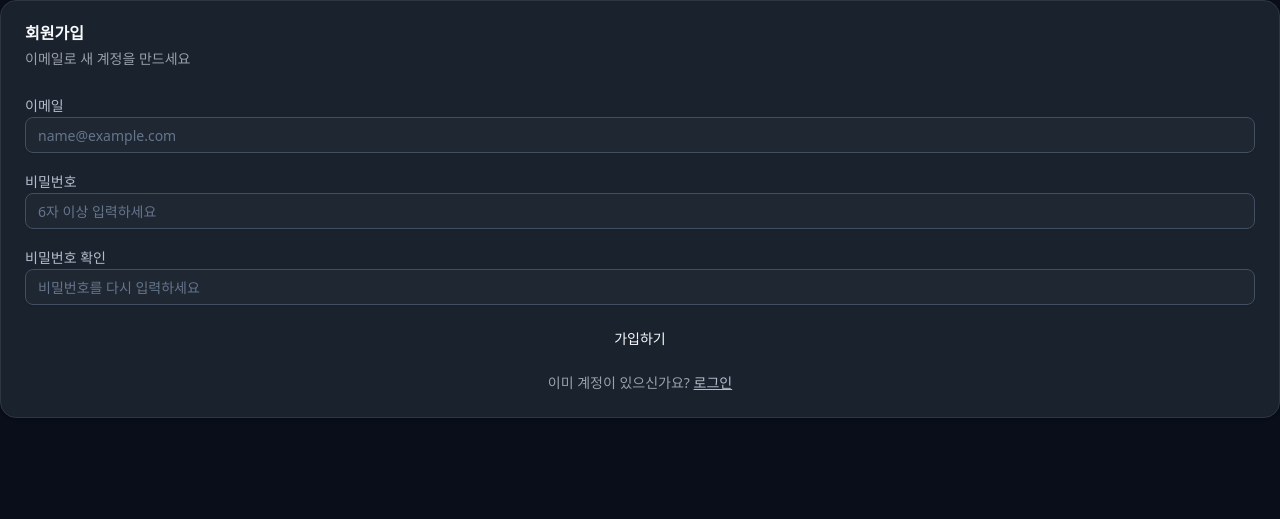
Test: SignupForm › 필수 필드가 비어있으면 에러 메시지를 표시한다
The width and height of the screenshot is (1280, 519).
Click the button "가입하기": (640, 339) [25,321,1255,357]
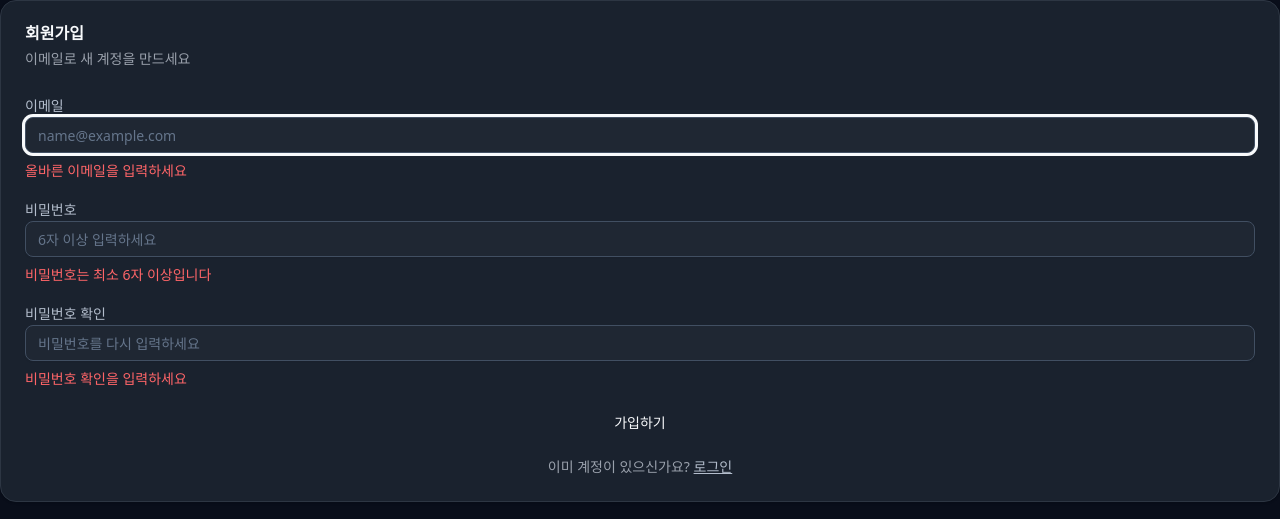
Expected: the text "올바른 이메일을 입력하세요" is shown, [25,161,187,180]
